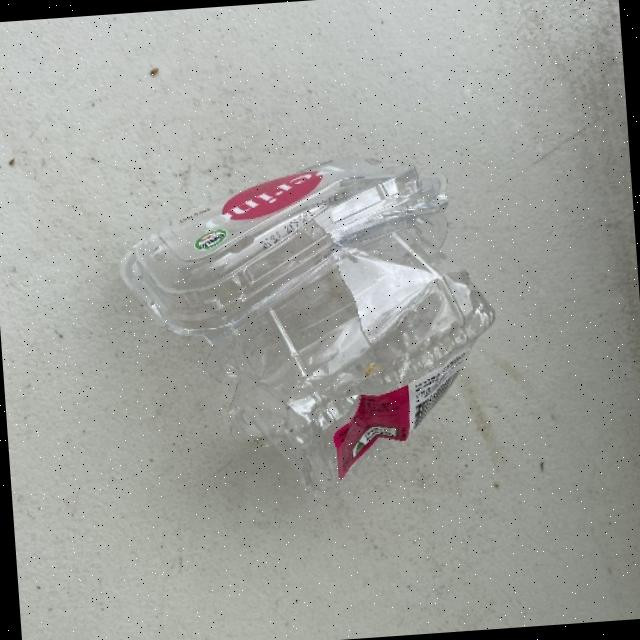plastic: (111, 144, 506, 504)
